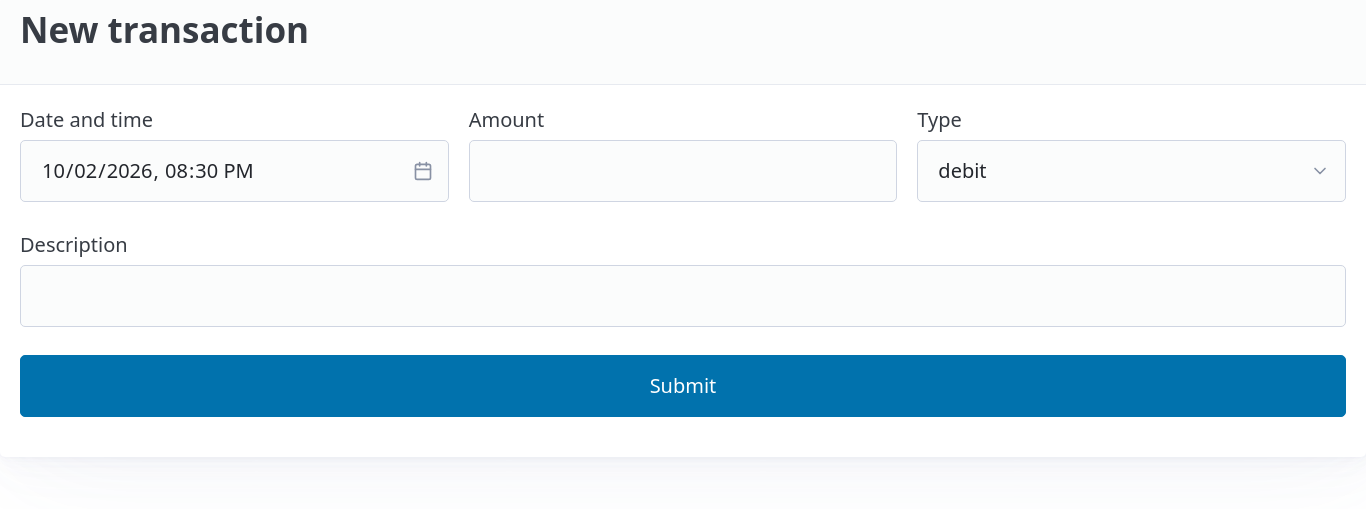
it: TransactionForm › rejects a date in the future without submitting
The width and height of the screenshot is (1366, 509).
Replace the text in the field labelled "Date and time" with "2099-01-01T00:00" at (234, 171), box [20,140,449,202]
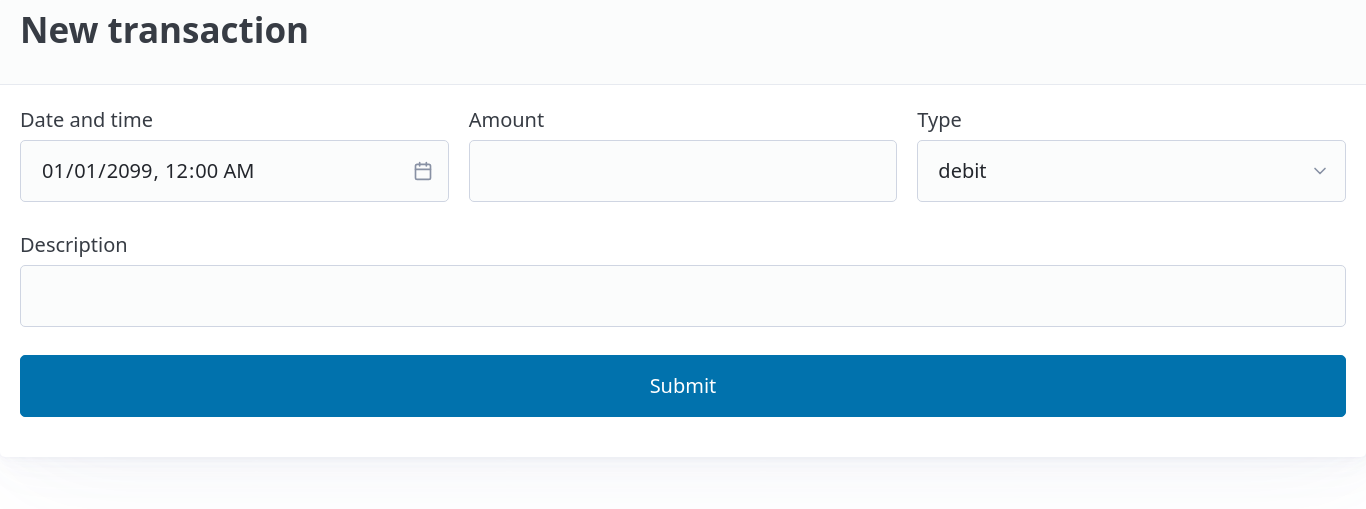
Type "10" into the number field labelled "Amount" at (683, 171), box [469,140,897,202]
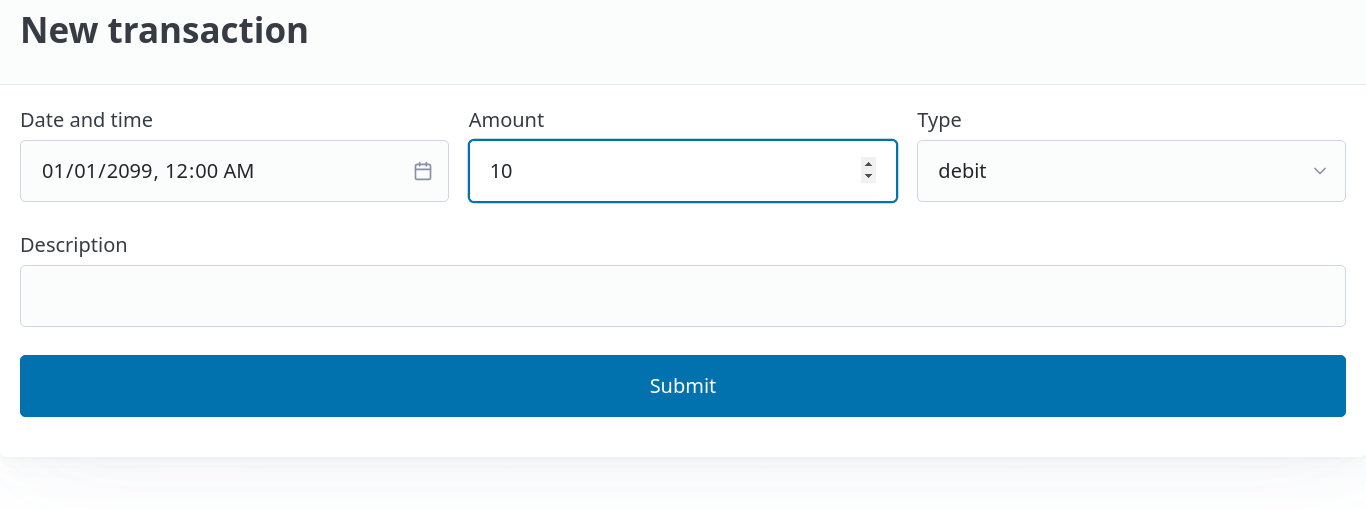
Type "Dated" into the field labelled "Description" at (683, 296), box [20,265,1346,327]
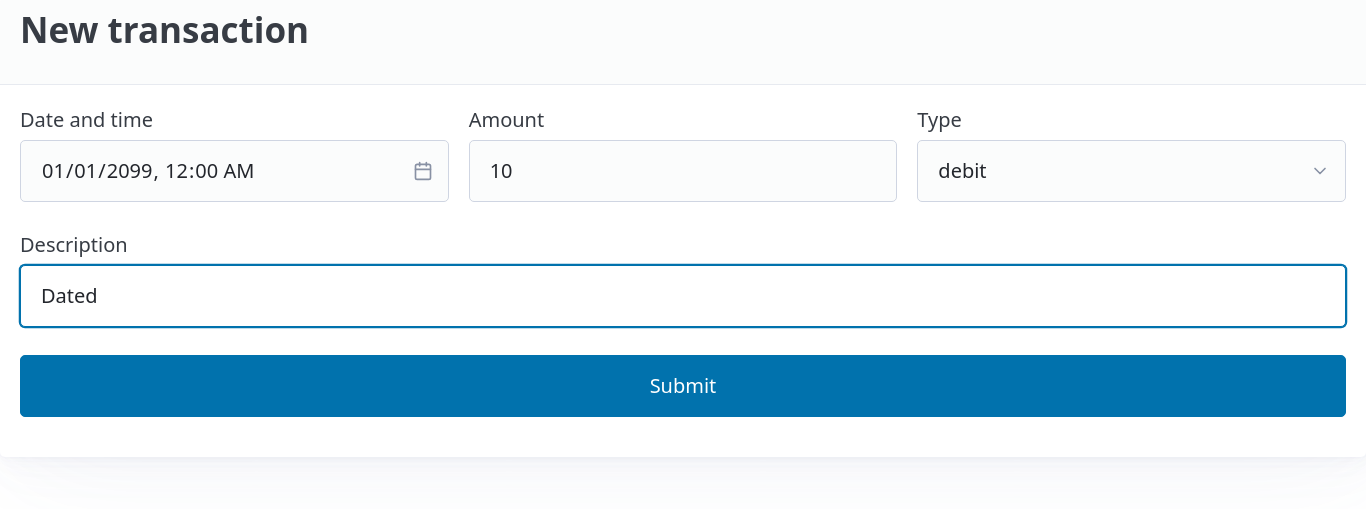
Click the button "Submit" at (683, 386), box [20,355,1346,417]
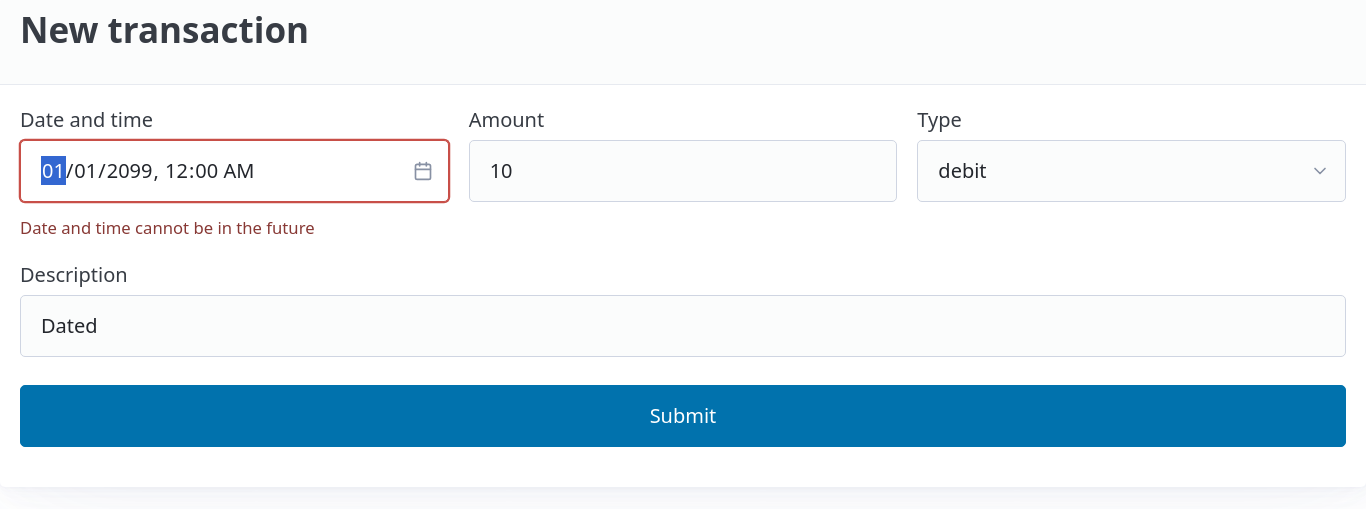
Expected: the text "Date and time cannot be in the future" is shown, [20,216,315,239]
